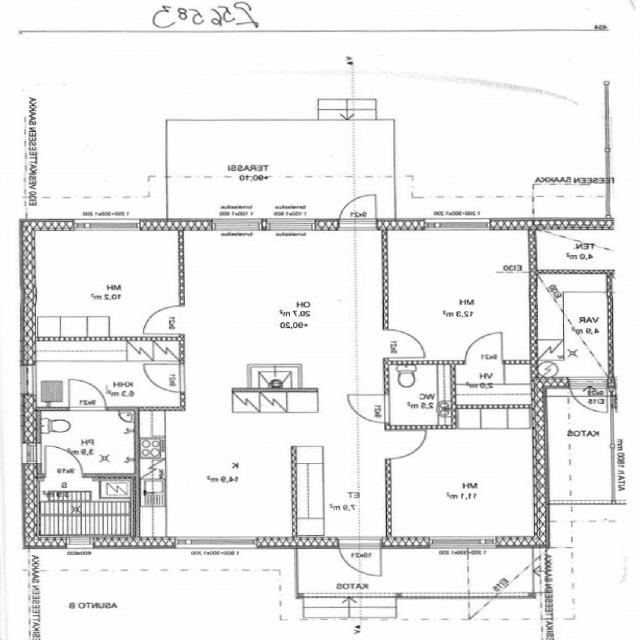door: (339, 537, 382, 580), (340, 190, 376, 230), (69, 378, 106, 411), (348, 394, 391, 422), (46, 445, 82, 478), (143, 364, 185, 392), (385, 431, 427, 459), (385, 330, 427, 358), (466, 332, 502, 364), (144, 307, 185, 334)
